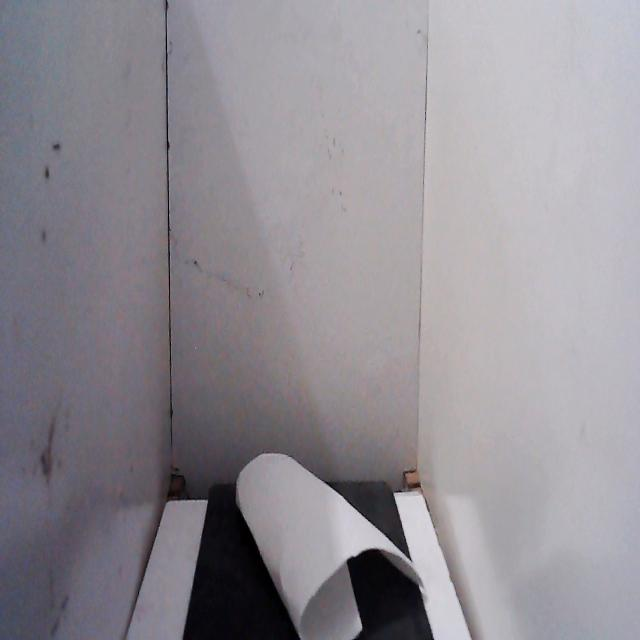papel: (231, 441, 427, 640)
